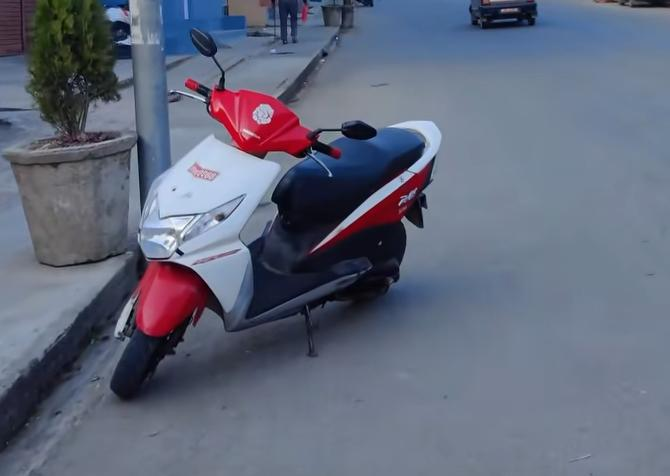scooter: (109, 26, 446, 399)
